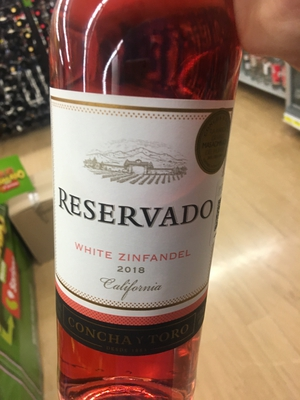reservado white zinfandel: (43, 4, 229, 400)
